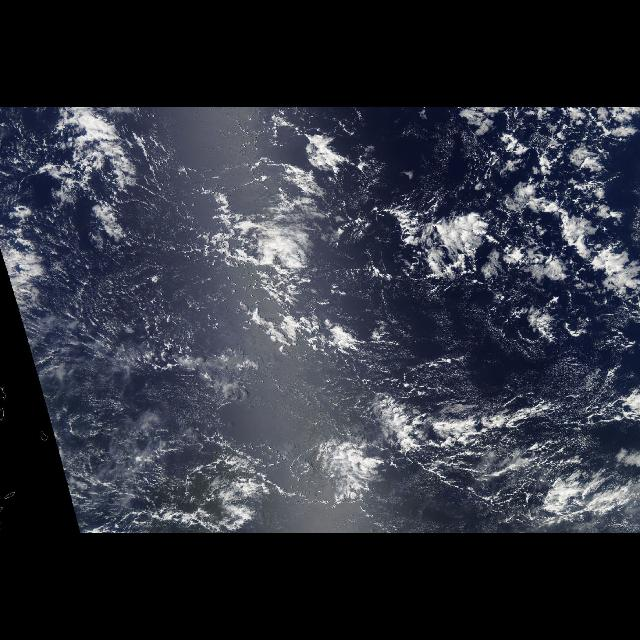Fish: (375, 389, 631, 529)
Flower: (424, 130, 630, 332)
Gravel: (1, 155, 366, 532)
Sugar: (21, 279, 208, 517), (291, 382, 565, 482)
